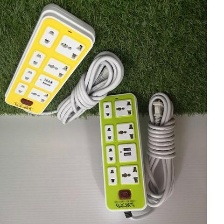three_eye_plug: (1, 1, 98, 116), (93, 89, 149, 215)
